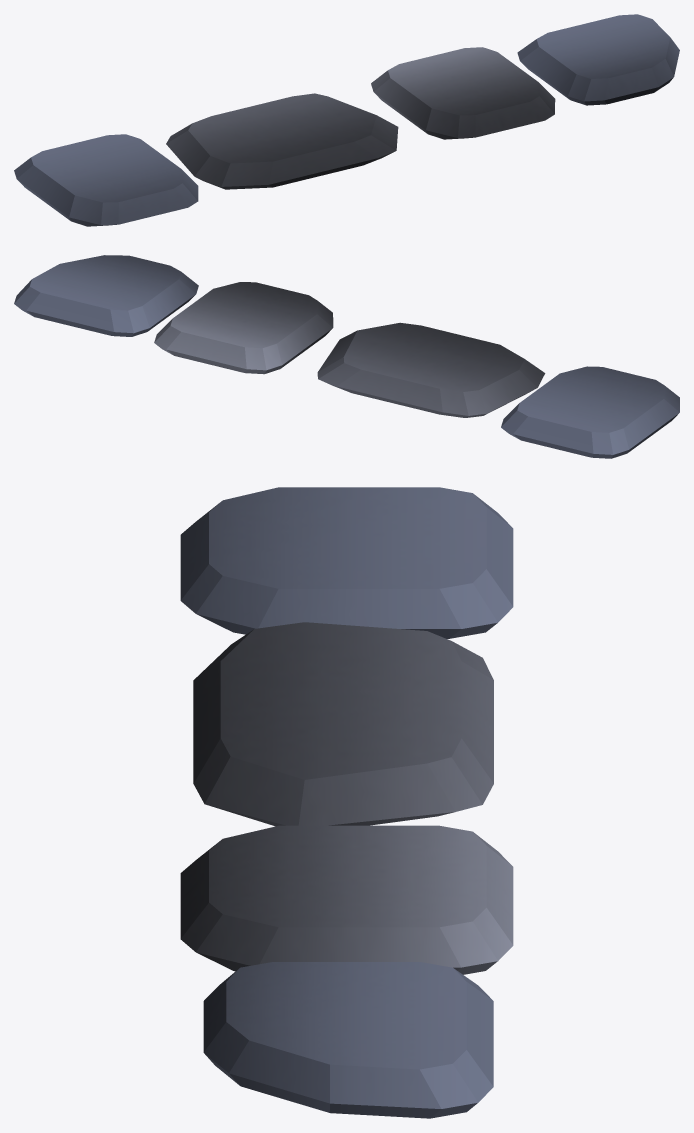
Rendered from rock_floor.fbx.
3 views of the same model, one above another, from view 1: azimuth 30°, elevation 25°; view 2: azimuth 150°, elevation 25°; view 3: azimuth 270°, elevation 25° (orthographic). The views are drawn at different scales.
Parts seen in each view (by area): view 1: Kamene_plocice_3, Kamene_plocice_1.001, Kamene_plocice_1, Kamene_plocice_2; view 2: Kamene_plocice_3, Kamene_plocice_1, Kamene_plocice_1.001, Kamene_plocice_2; view 3: Kamene_plocice_3, Kamene_plocice_1.001, Kamene_plocice_1, Kamene_plocice_2.
Boxes of the visible parts, x1,y1,x2,y2 form: Kamene_plocice_3: (166,93,398,189); Kamene_plocice_1.001: (14,134,198,226); Kamene_plocice_1: (371,47,555,139); Kamene_plocice_2: (517,14,679,105); Kamene_plocice_3: (317,322,545,417); Kamene_plocice_1: (154,282,333,374); Kamene_plocice_1.001: (501,366,679,458); Kamene_plocice_2: (14,255,198,336); Kamene_plocice_3: (193,622,493,826); Kamene_plocice_1.001: (180,487,513,638); Kamene_plocice_1: (180,825,513,974); Kamene_plocice_2: (203,962,493,1118).
Size of the model in its own units: 217 by 7.47 by 50.58.
Materials: 1 (1 with a texture image).
